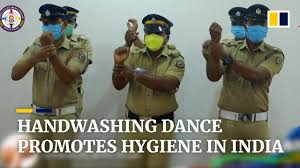mask: (244, 11, 268, 46), (140, 23, 166, 55), (39, 13, 61, 44), (226, 13, 244, 39), (63, 11, 79, 40)
